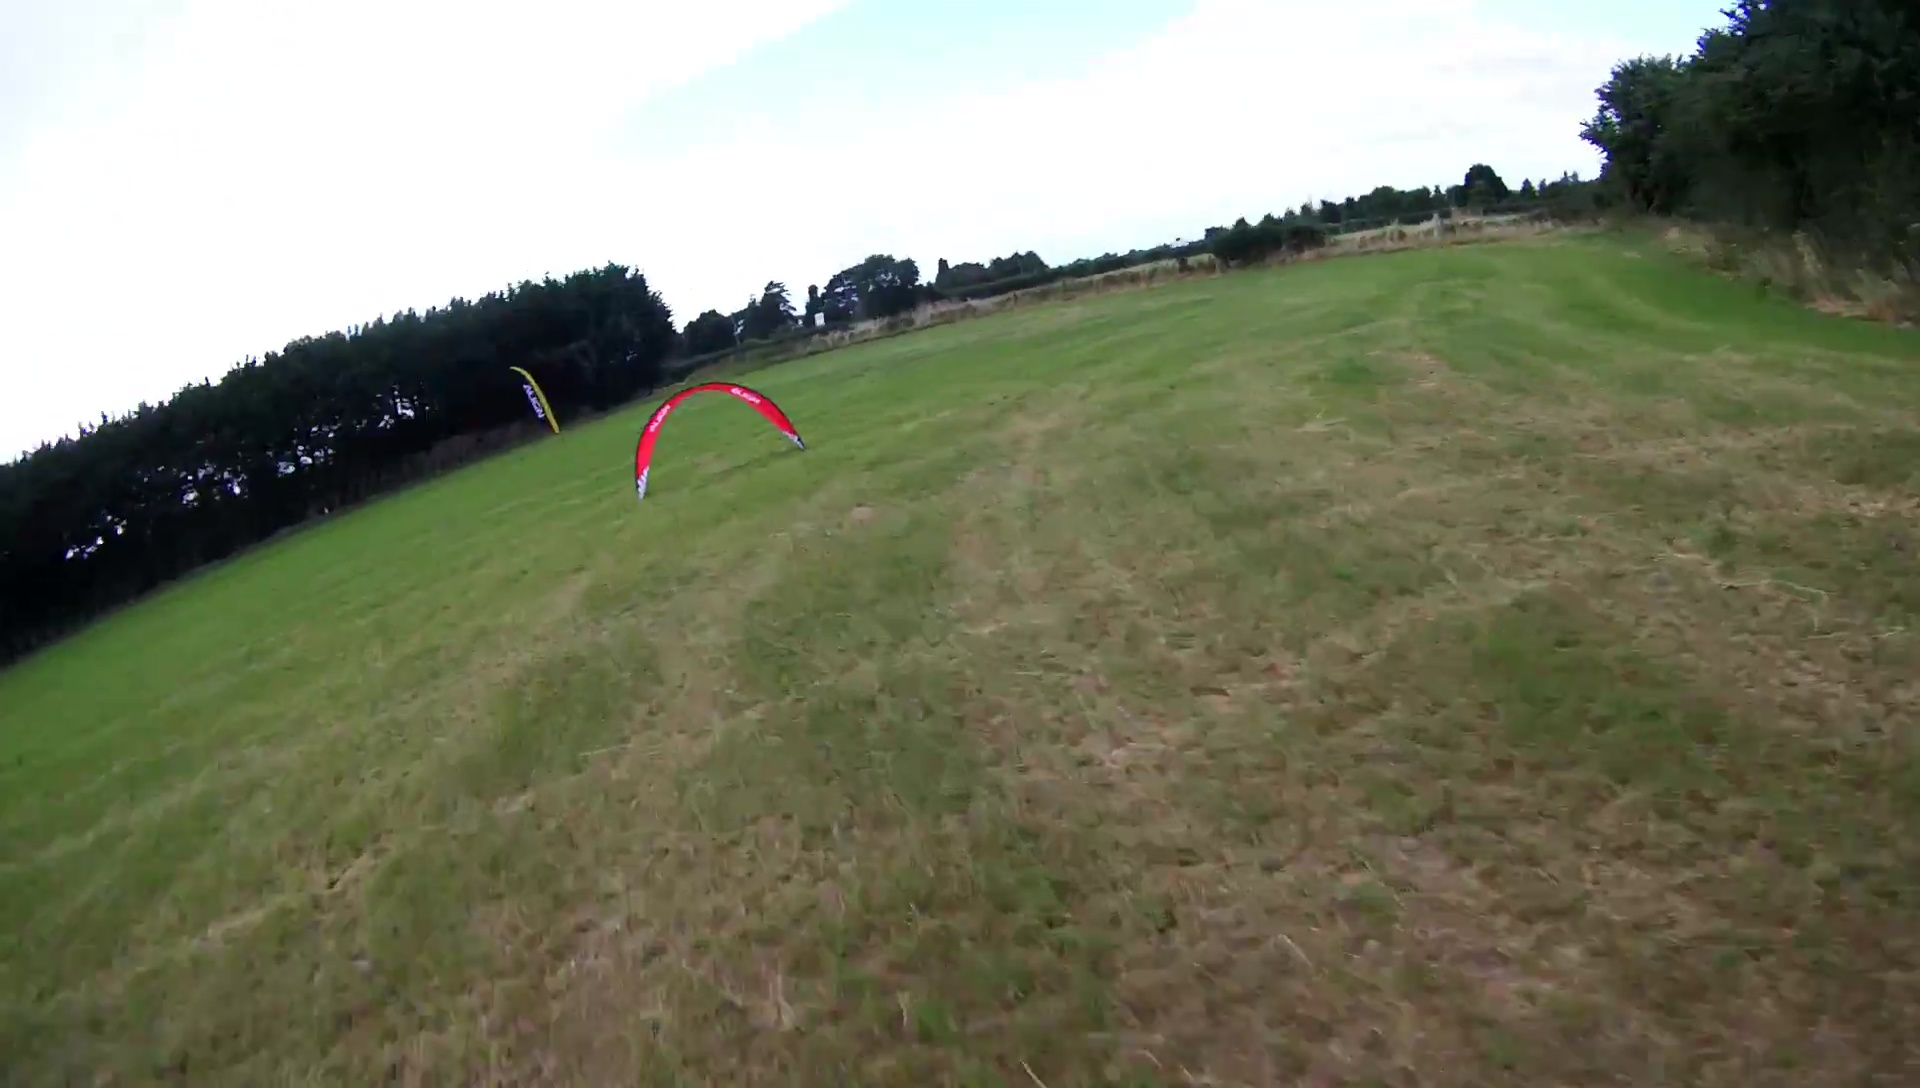gate: (632, 381, 806, 501)
